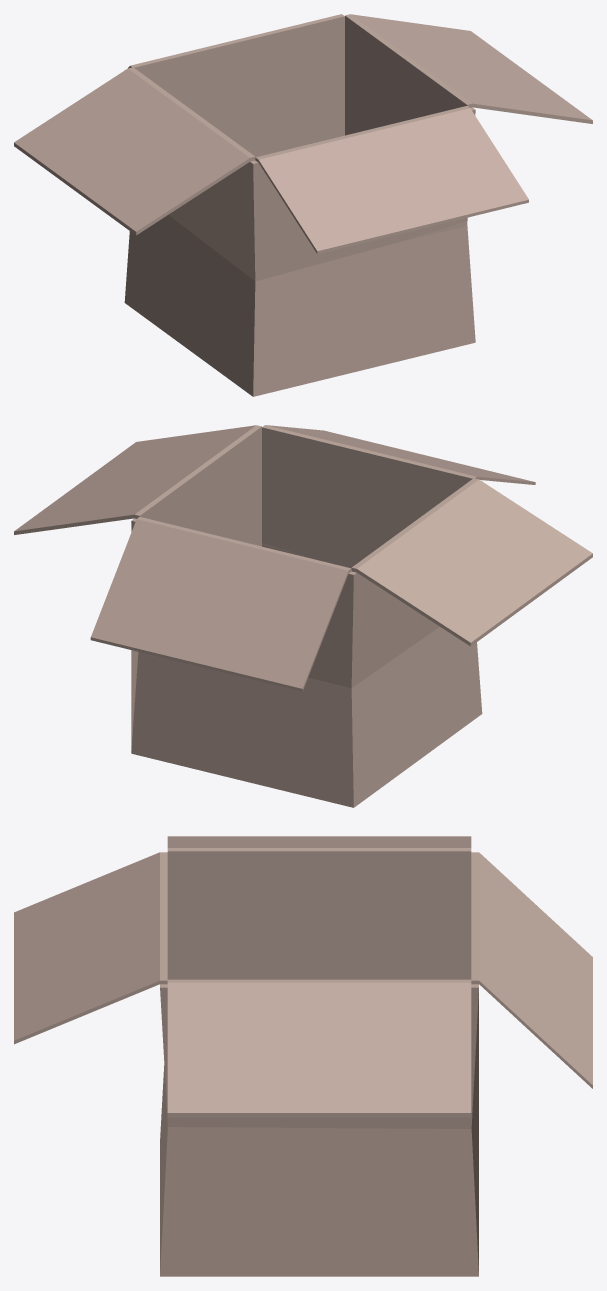
The model's file is CardboardBox.fbx.
The picture shows the model from 3 angles, top to bottom: view 1: azimuth 30°, elevation 25°; view 2: azimuth 150°, elevation 25°; view 3: azimuth 270°, elevation 25°; orthographic projection. The views are drawn at different scales.
Visible parts, largest first — view 1: CardboardBox; view 2: CardboardBox; view 3: CardboardBox.
Boxes of the visible parts, x1,y1,x2,y2 form: CardboardBox: (14, 14, 592, 396); CardboardBox: (14, 425, 592, 807); CardboardBox: (14, 836, 592, 1276).
Bounding box in the file's own units: 2.05 × 1.02 × 1.81.
